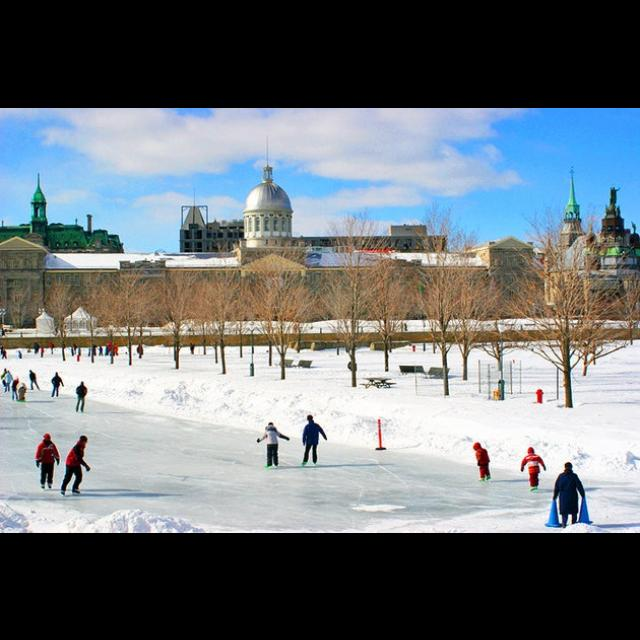head: (80, 435, 90, 445), (473, 442, 482, 452), (564, 463, 574, 471), (44, 434, 52, 444), (528, 447, 536, 455), (268, 422, 276, 428), (308, 416, 314, 422), (5, 368, 9, 374), (82, 382, 86, 386), (56, 373, 60, 377), (16, 380, 20, 384), (140, 344, 144, 348), (31, 370, 34, 374), (8, 371, 12, 374)
person: (551, 461, 587, 531), (59, 434, 92, 498), (255, 421, 291, 471), (34, 431, 62, 491), (300, 413, 328, 469), (520, 446, 548, 492), (472, 441, 494, 484), (74, 380, 90, 416), (50, 372, 64, 398), (29, 368, 43, 392), (1, 369, 15, 393), (11, 376, 21, 400), (0, 368, 12, 388), (136, 343, 146, 361)
